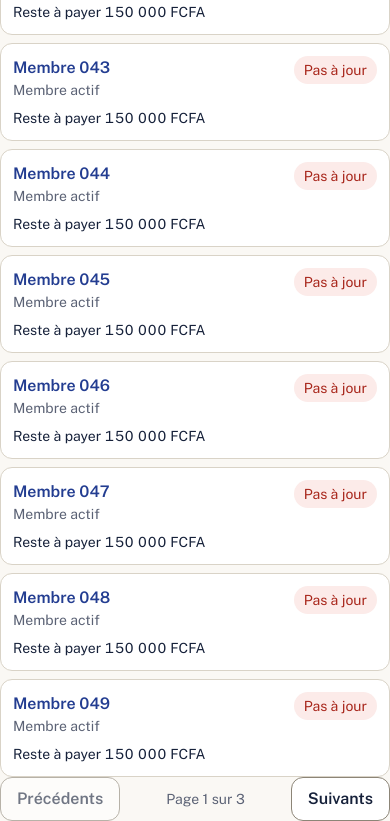
B5 — le registre › pagine côté client par 50
The image size is (390, 821).
(page scrolled)
Expected: the text "Page 1 sur 3" is shown, left=166, top=789, right=245, bottom=809
Click the button "Suivants" at (340, 799), box left=291, top=777, right=389, bottom=820
(page scrolled)
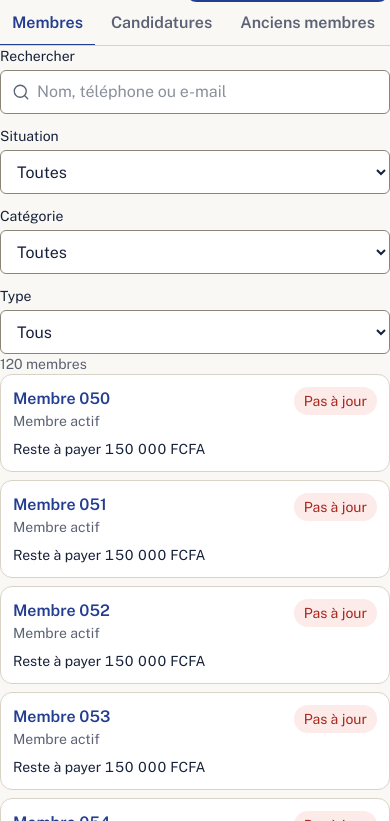
Now the text "Membre 050" is shown, box left=13, top=387, right=110, bottom=411
